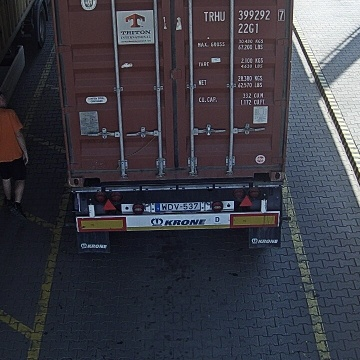serial_id: (204, 10, 285, 21)
